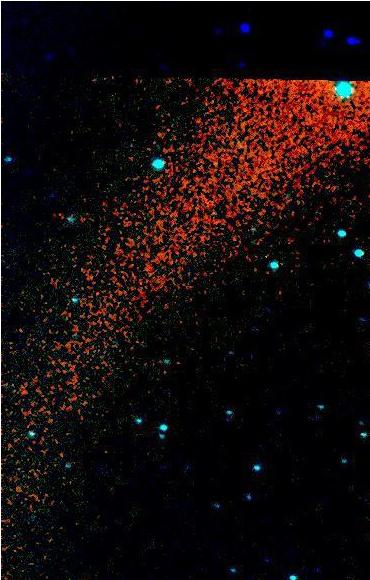star: (56, 464, 86, 494)
